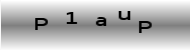1: (64, 10, 78, 25)
P: (33, 16, 49, 31), (137, 20, 152, 33)
a: (95, 15, 107, 27)
u: (116, 9, 132, 21)
